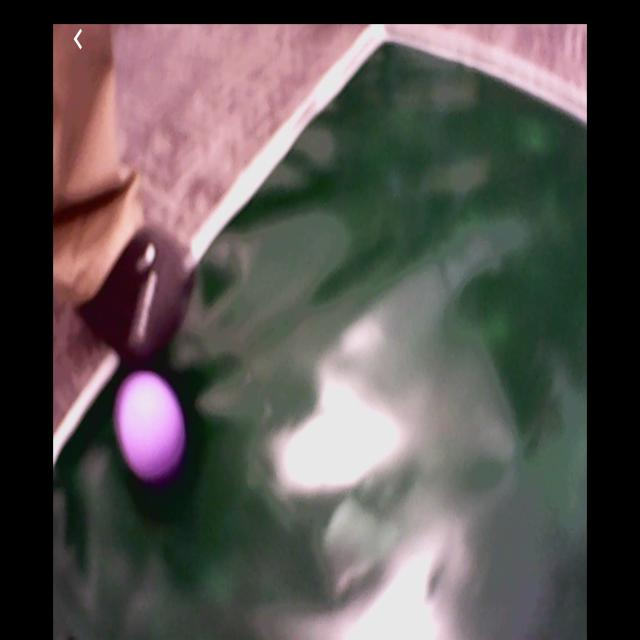ball: (114, 372, 187, 481)
